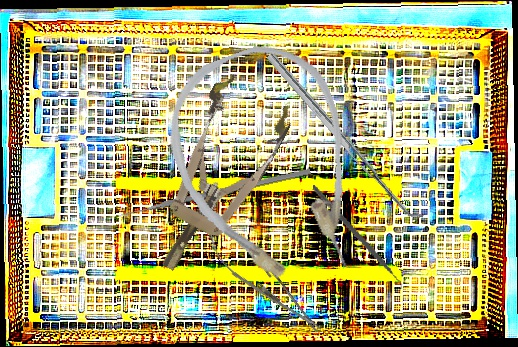Cannula: (147, 27, 389, 310)
Chopper: (290, 185, 423, 296)
Needle Holder: (195, 214, 331, 344)
Pusher: (108, 167, 312, 222)
Spatula Surgical: (266, 46, 426, 226)
Speculum: (127, 69, 300, 288)
